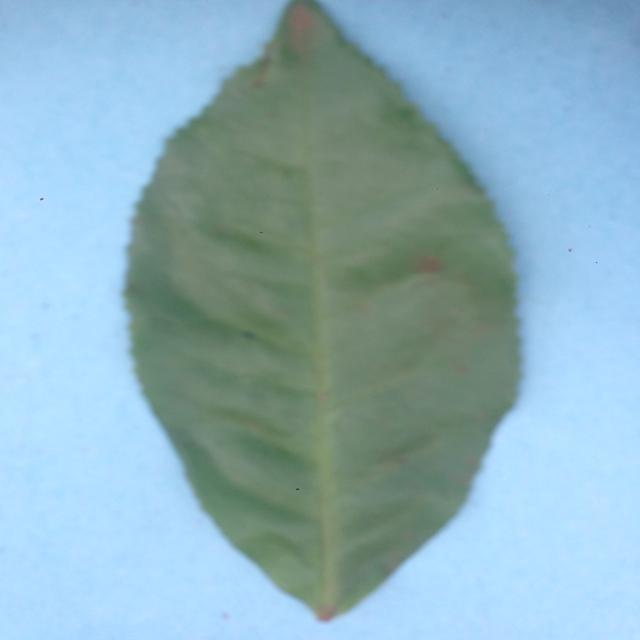Healthy: (99, 0, 551, 627)
